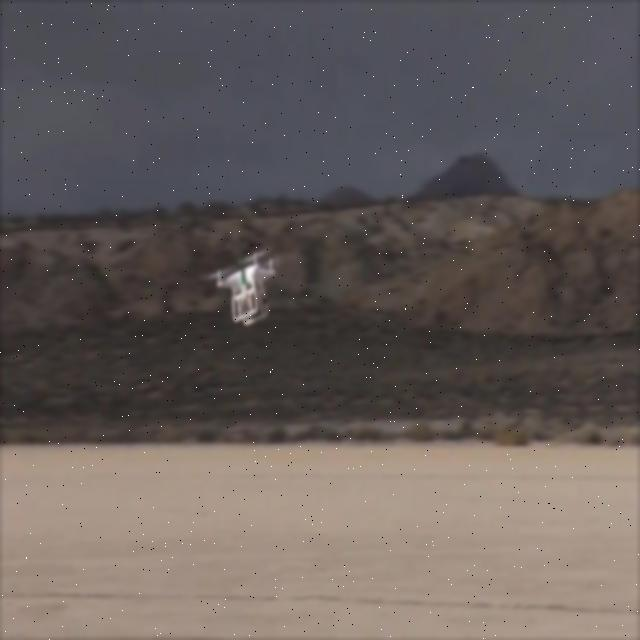UAV: (213, 250, 273, 328)
